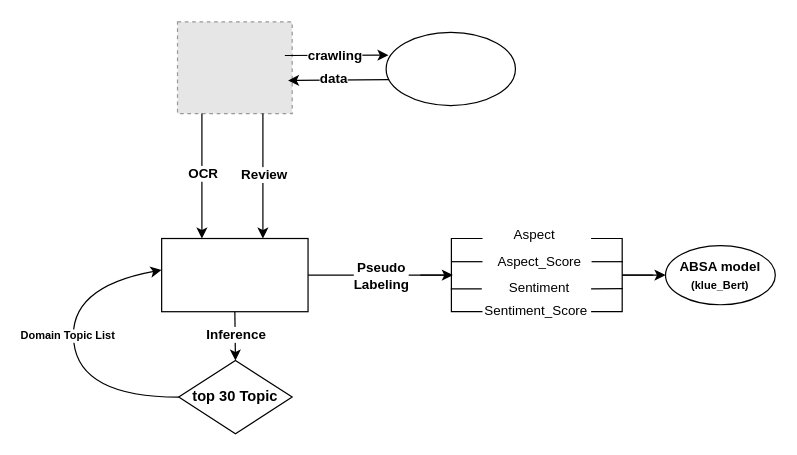
Some shapes in this 797 by 455 pixel diagram are drawn without their labels. Grey dashed boxes stand in for pictures. Each missing label, with the centre of its shape:
"llama 3.1_Instruct (fine_tuning)" goes at pixel 234 274.
"NAVER SHOP" goes at pixel 450 68.
